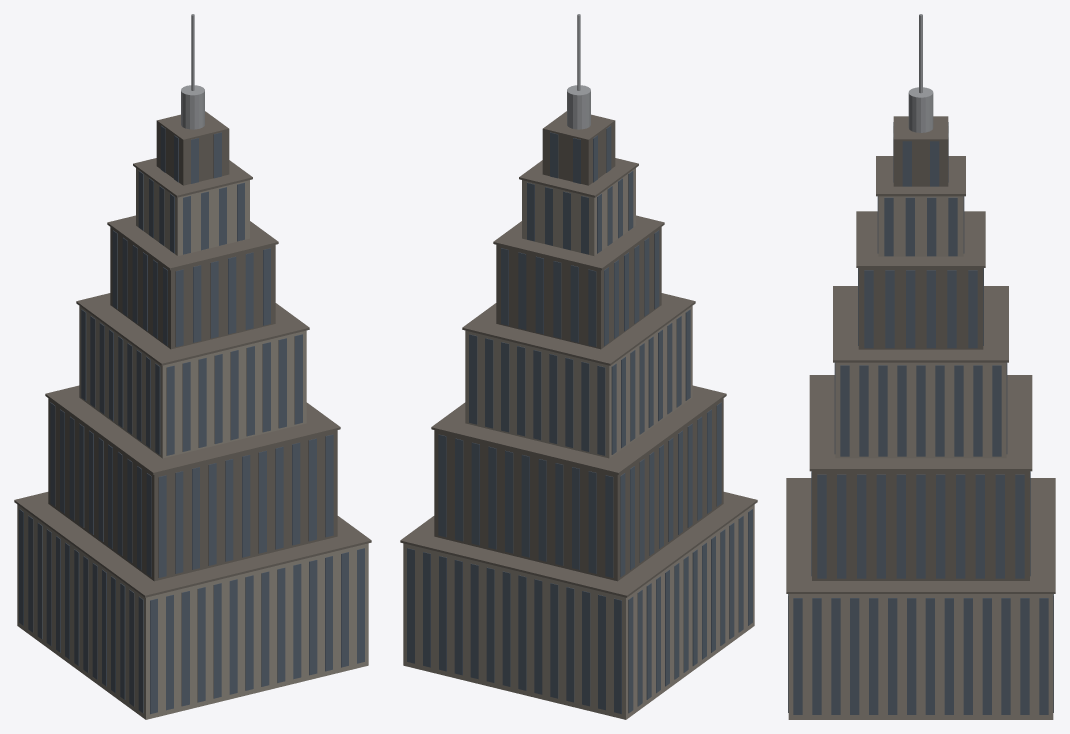
File: empire-state.glb
3 views of the same model, side by side, from view 1: azimuth 30°, elevation 25°; view 2: azimuth 150°, elevation 25°; view 3: azimuth 270°, elevation 25° (orthographic). The views are drawn at different scales.
Parts seen in each view (by area): view 1: Cube, Cube.058, Cube.104, Cube.142, Cube.057, Cube.103, Cube.141, Cube.168, Cube.186, Cube.167, Cube.185, Cube.018 (+61 smaller); view 2: Cube, Cube.058, Cube.104, Cube.142, Cube.057, Cube.103, Cube.141, Cube.168, Cube.186, Cube.167, Cube.185, Cube.004 (+61 smaller); view 3: Cube, Cube.058, Cube.104, Cube.057, Cube.103, Cube.142, Cube.141, Cube.167, Cube.168, Cube.186, Cube.185, Cube.029 (+46 smaller).
Part boxes in pixels (box(x1,y1,x2,y2)): Cube: box(17, 504, 368, 719); Cube.058: box(48, 398, 337, 581); Cube.104: box(79, 306, 306, 458); Cube.142: box(110, 227, 275, 349); Cube.057: box(14, 492, 371, 597); Cube.103: box(45, 385, 340, 474); Cube.141: box(76, 293, 309, 365); Cube.168: box(136, 168, 249, 255); Cube.186: box(156, 111, 229, 185); Cube.167: box(107, 215, 278, 270); Cube.185: box(133, 158, 252, 197); Cube.018: box(197, 587, 205, 702); Cube: box(403, 504, 754, 719); Cube.058: box(434, 398, 723, 581); Cube.104: box(465, 306, 692, 458); Cube.142: box(496, 227, 661, 349); Cube.057: box(400, 492, 757, 597); Cube.103: box(431, 385, 726, 474); Cube.141: box(462, 293, 695, 365); Cube.168: box(522, 168, 635, 255); Cube.186: box(542, 111, 615, 185); Cube.167: box(493, 215, 664, 270); Cube.185: box(519, 158, 638, 197); Cube.004: box(566, 587, 574, 702); Cube: box(788, 594, 1053, 719); Cube.058: box(812, 471, 1029, 580); Cube.104: box(835, 362, 1006, 458); Cube.057: box(786, 478, 1055, 593); Cube.103: box(809, 375, 1032, 471); Cube.142: box(858, 268, 983, 349); Cube.141: box(833, 286, 1008, 362); Cube.167: box(856, 211, 985, 267); Cube.168: box(878, 196, 963, 256); Cube.186: box(893, 116, 948, 186); Cube.185: box(876, 156, 965, 196); Cube.029: box(793, 598, 802, 714).
Bounding box in the file's own units: 34.6 × 92 × 34.6.
